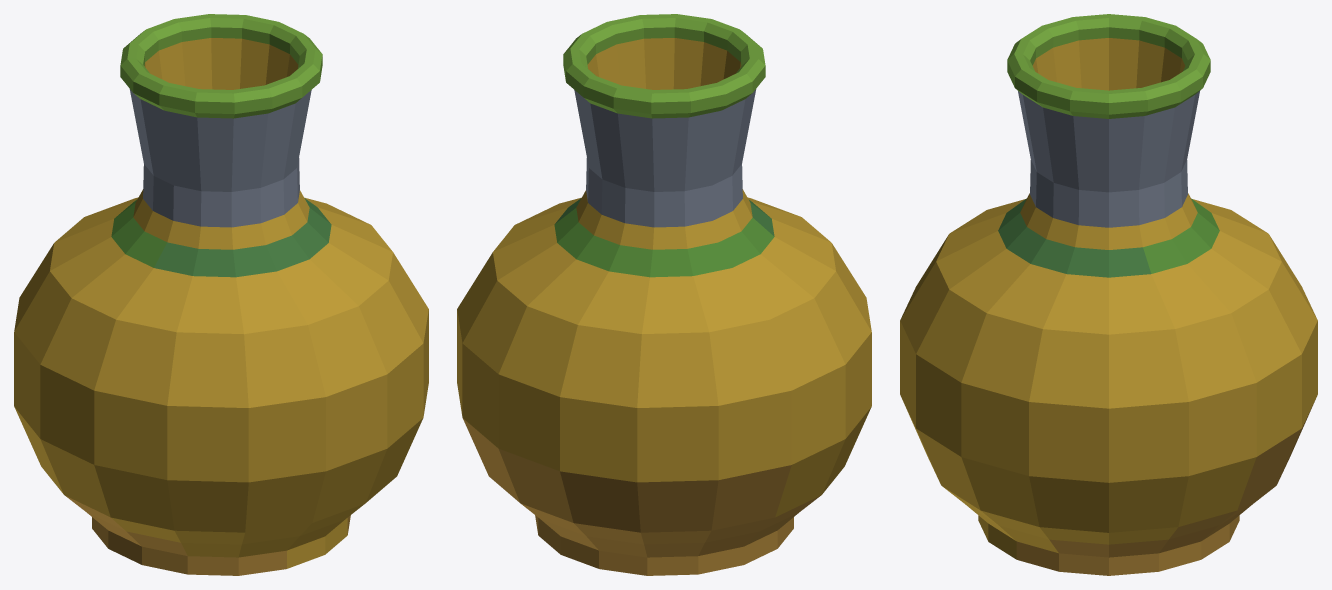
File: fixed_vase_001.glb
3 views of the same model, side by side, from view 1: azimuth 30°, elevation 25°; view 2: azimuth 150°, elevation 25°; view 3: azimuth 270°, elevation 25° (orthographic).
Visible parts, largest first — view 1: Vase.001; view 2: Vase.001; view 3: Vase.001.
Boxes of the visible parts, x1,y1,x2,y2 form: Vase.001: (14, 14, 428, 575); Vase.001: (457, 14, 871, 575); Vase.001: (900, 14, 1317, 575).
Size of the model in its own units: 0.2028 by 0.25 by 0.2028.
